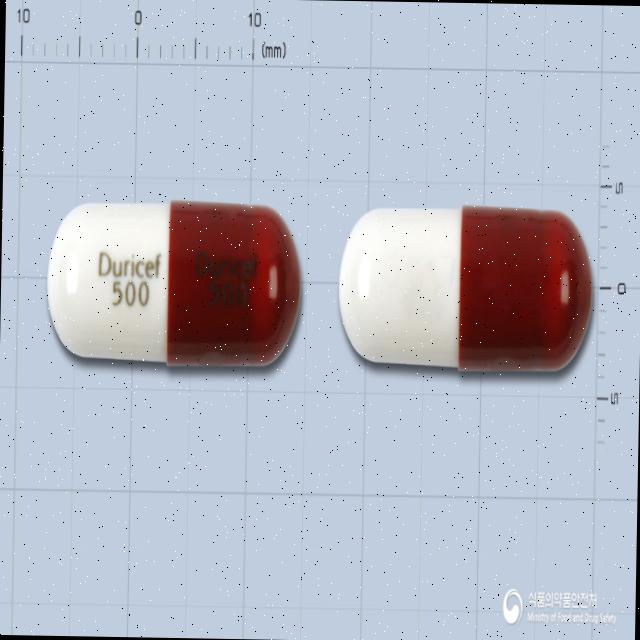Duricef Cap: (45, 196, 302, 370), (334, 202, 594, 372)
